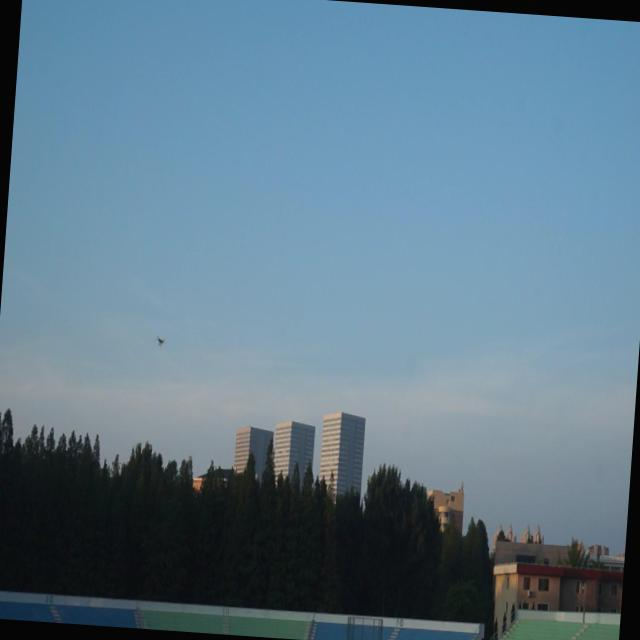drone: (154, 332, 167, 348)
